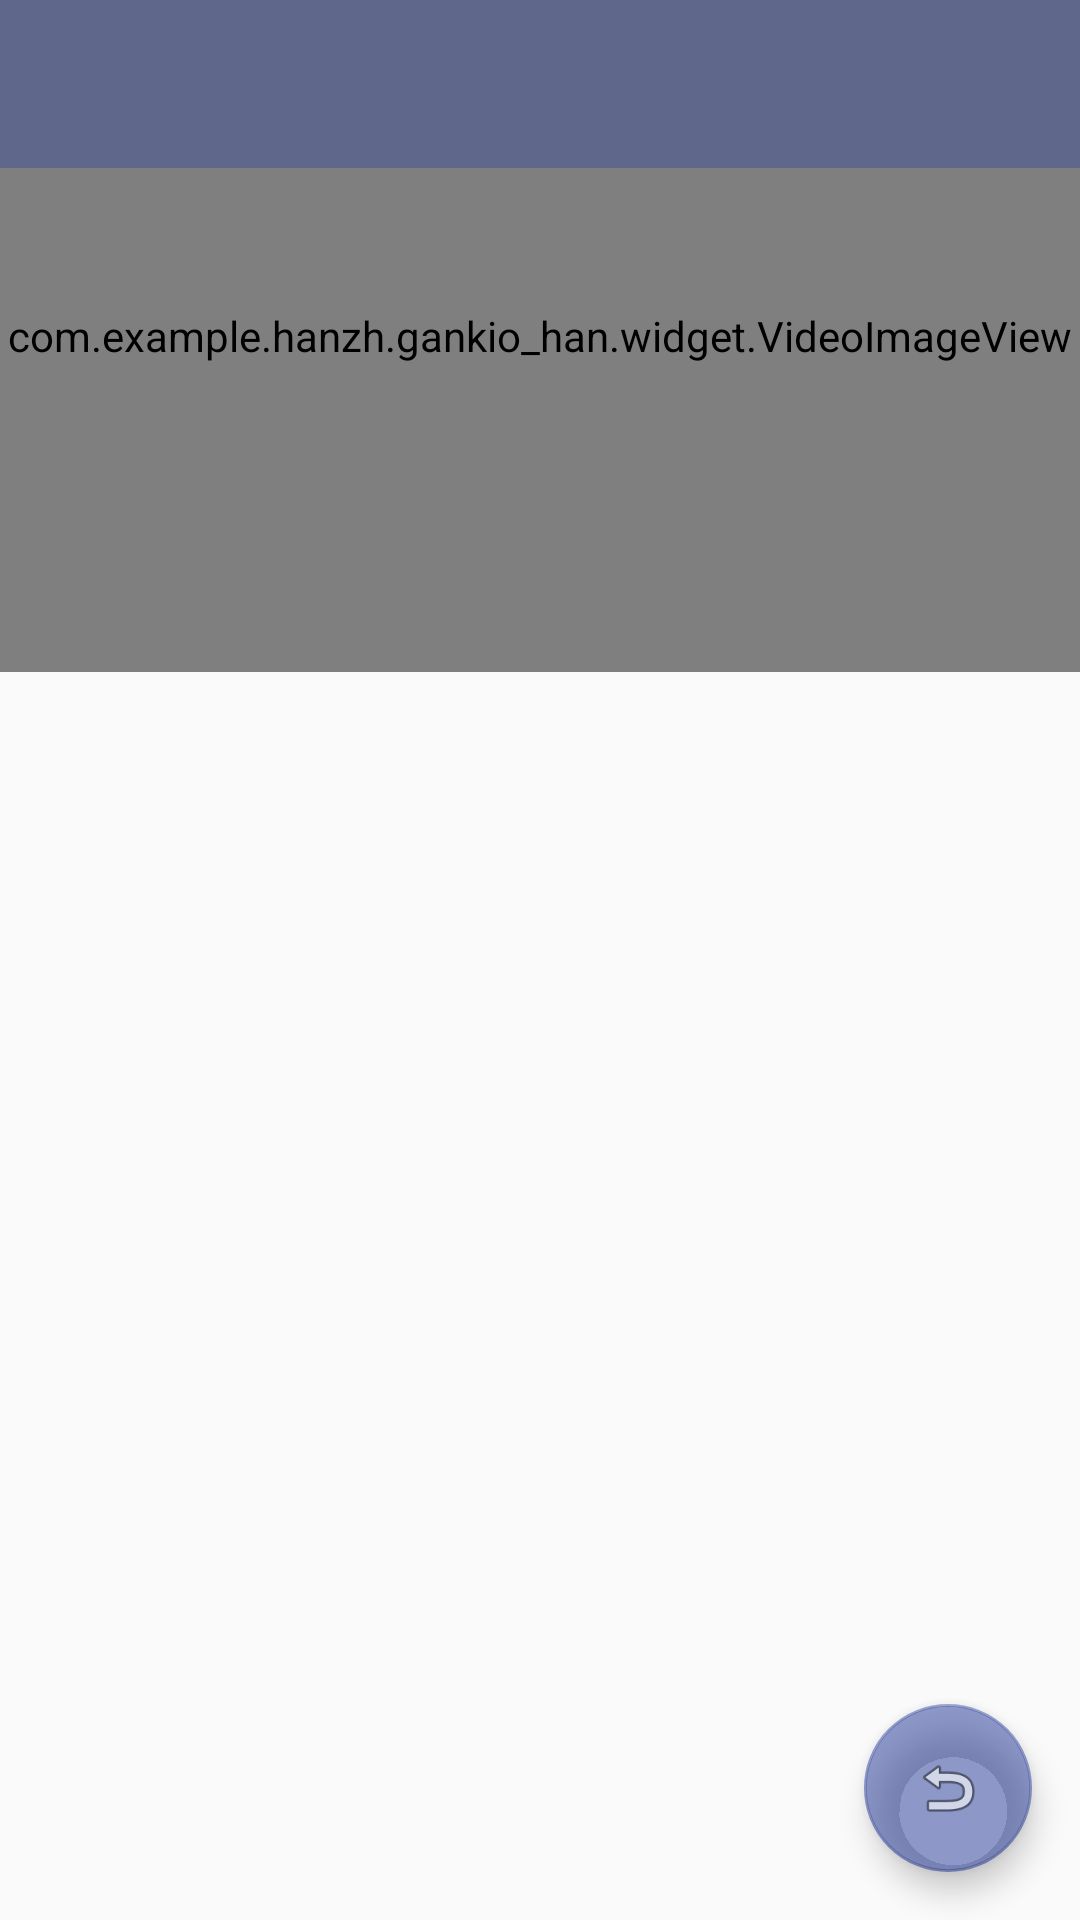

Named icons in this screenshot (1080×1920) and their bounding boxes, (x1, y1, x2, y2):
revert: (864, 1704, 1032, 1872)
